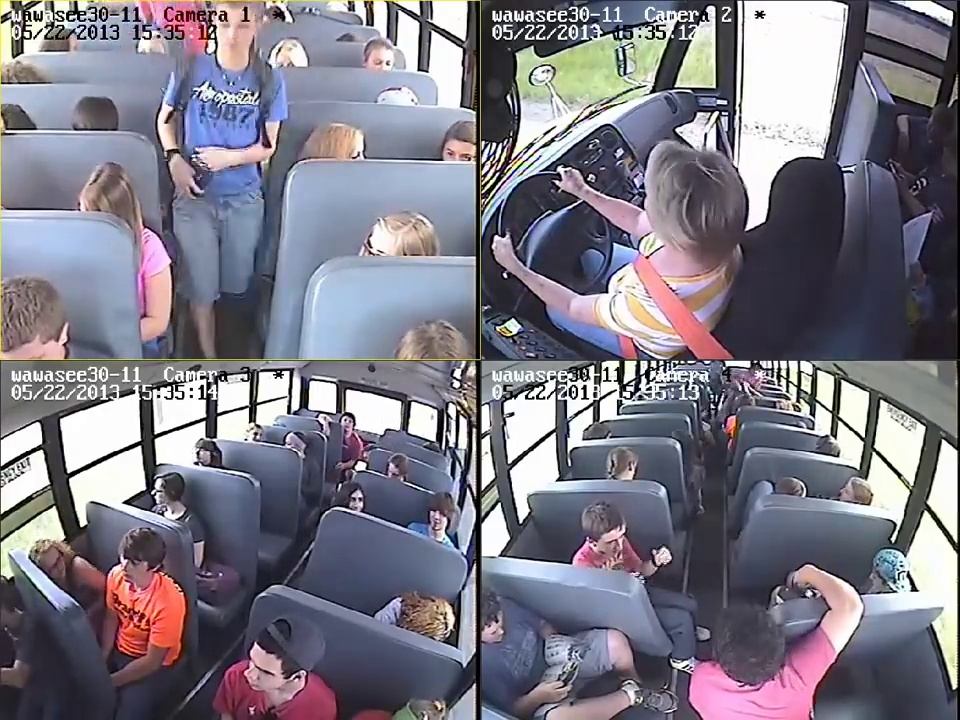face: (244, 656, 280, 691), (219, 19, 253, 52), (119, 551, 145, 582), (41, 553, 72, 577), (445, 137, 474, 160), (602, 532, 628, 557), (150, 478, 170, 504), (370, 47, 393, 67), (431, 506, 449, 528), (348, 490, 363, 509), (249, 425, 262, 442), (195, 446, 208, 463), (343, 415, 353, 429)
